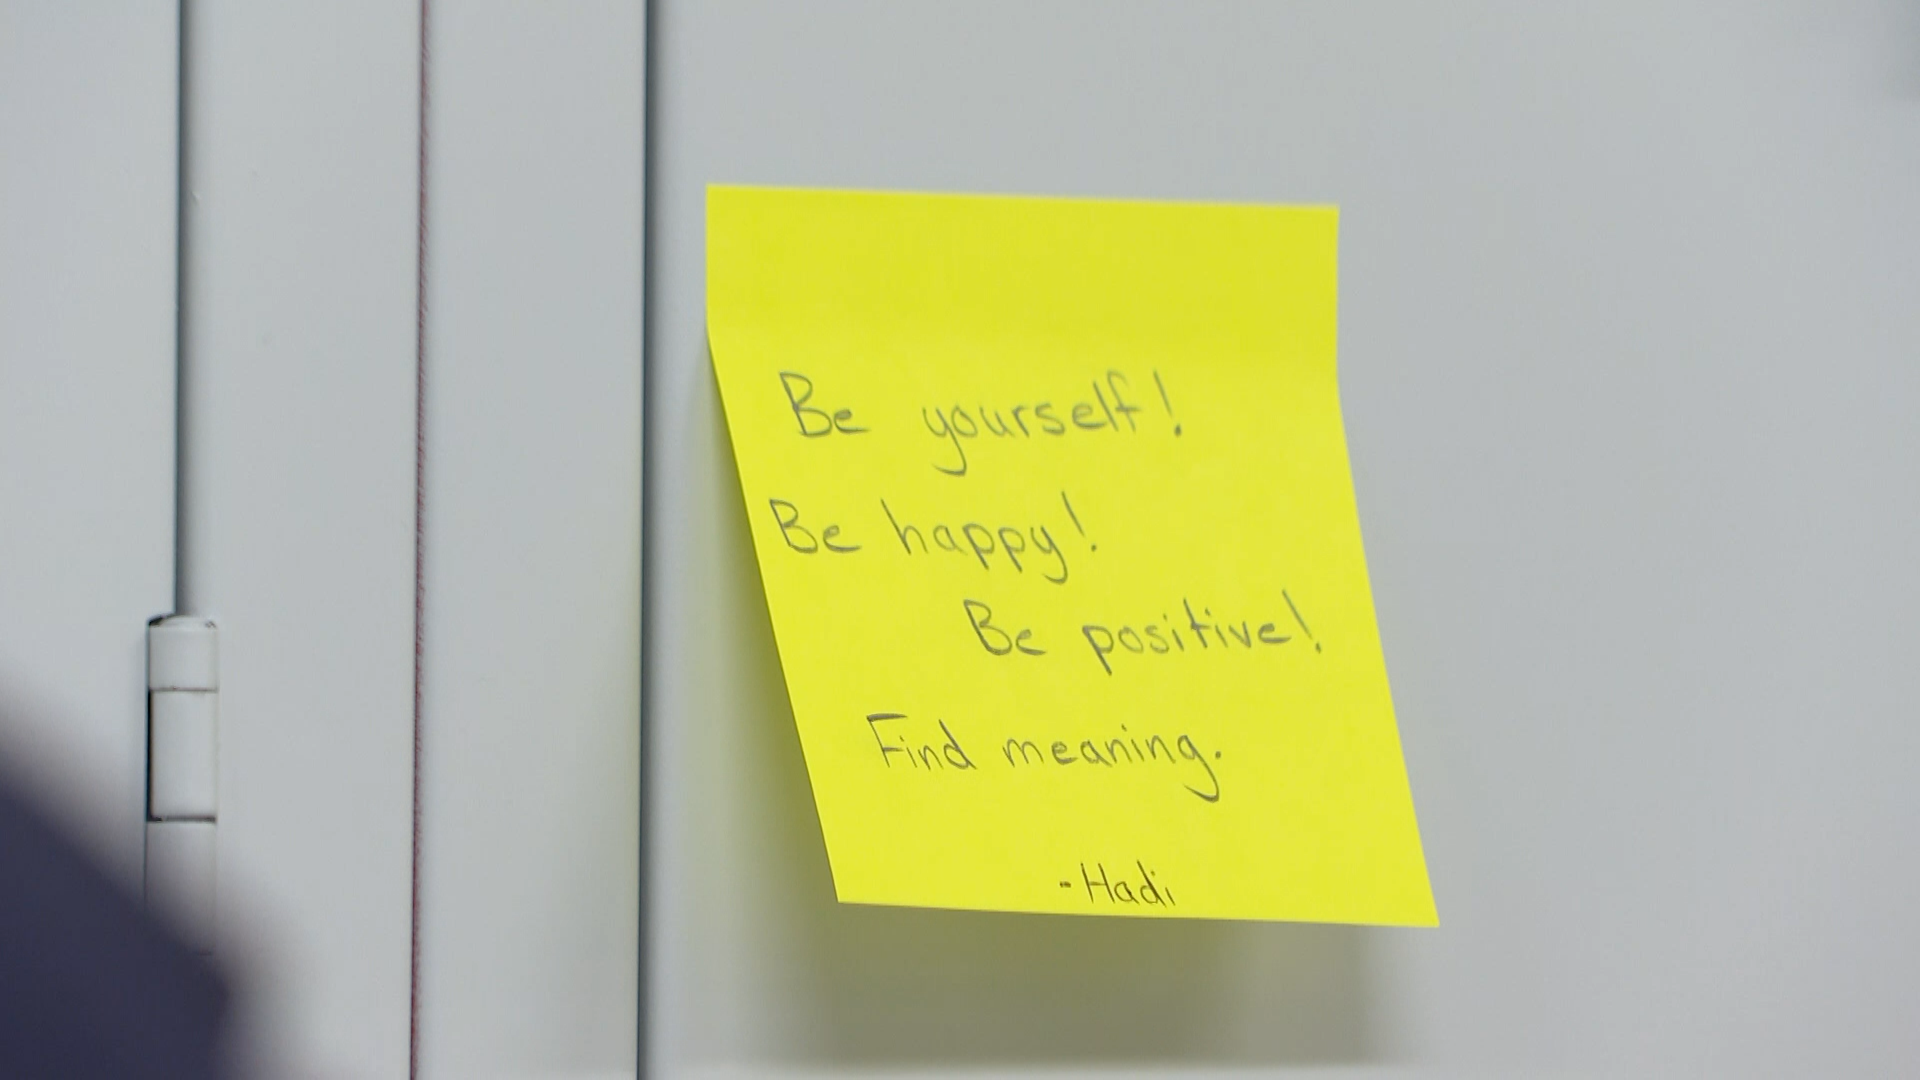Note: (702, 185, 1441, 934)
